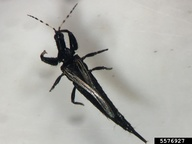Thrips: (21, 5, 150, 143)
